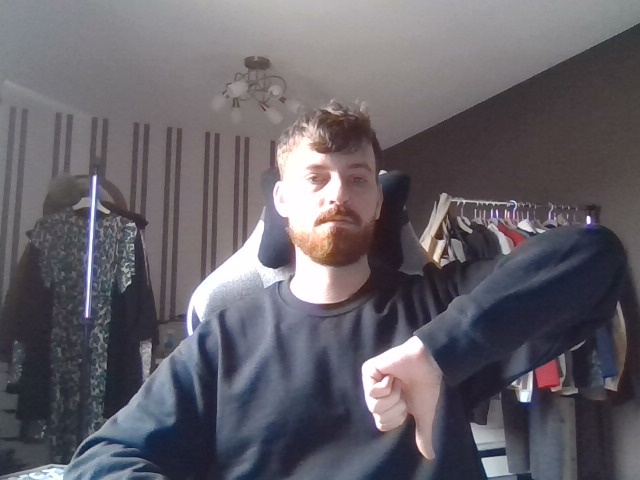Thumbs Down: (350, 314, 460, 461)
